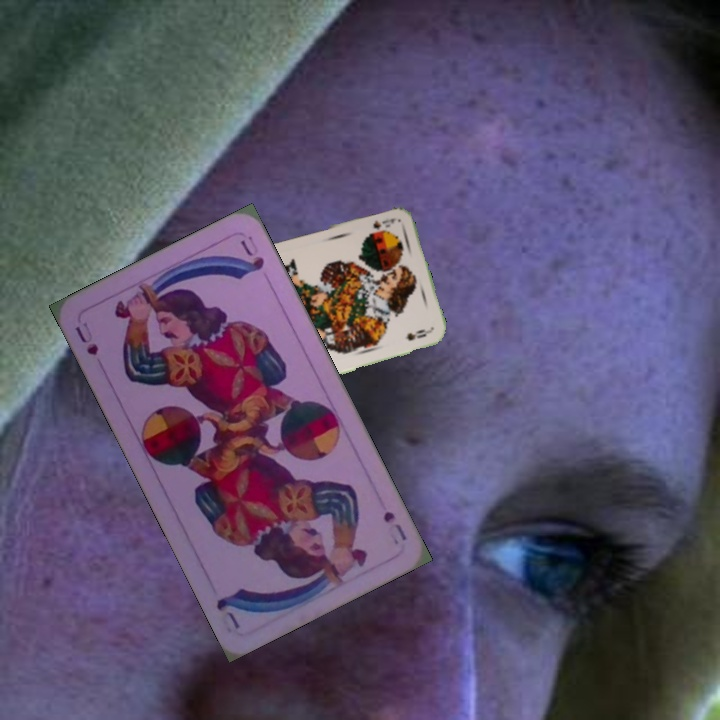SO: (369, 214, 397, 233)
SU: (70, 317, 101, 358), (379, 506, 409, 543)
